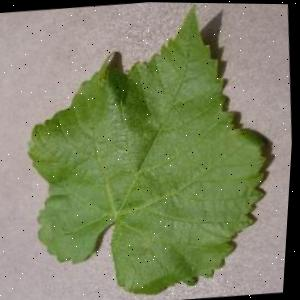Folha: (10, 0, 294, 300)
